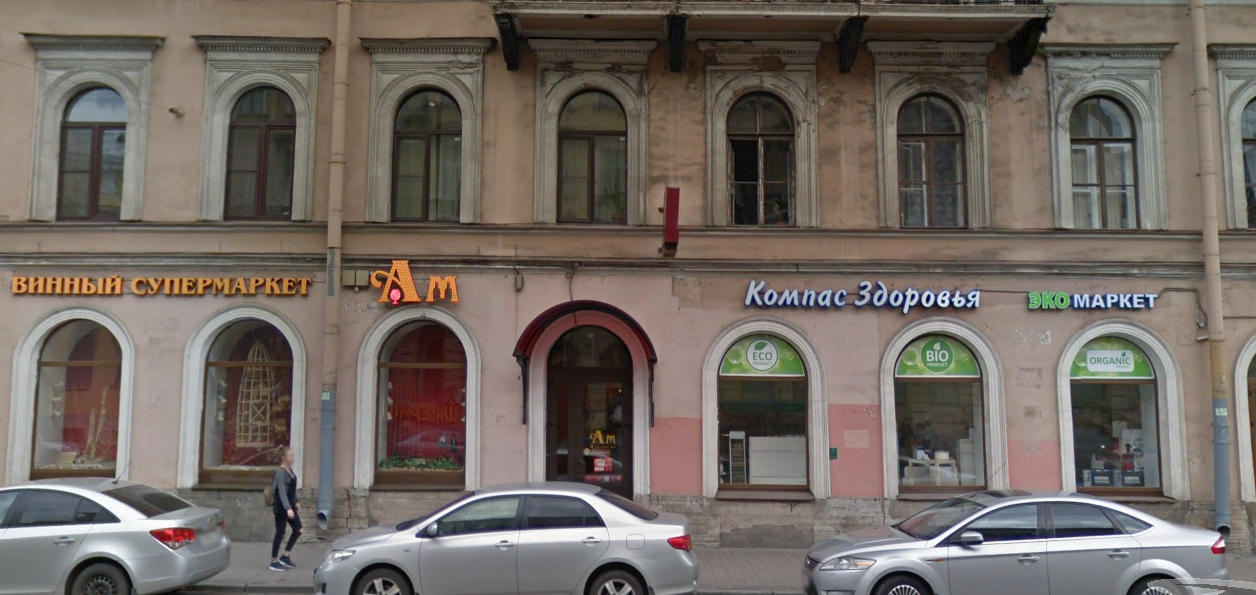cantilever: (651, 179, 691, 266)
door: (544, 373, 636, 515)
signboard: (5, 250, 471, 315), (733, 269, 992, 313), (1013, 271, 1164, 324)
window: (369, 355, 465, 485), (1066, 380, 1167, 498), (200, 360, 294, 480), (715, 377, 807, 497), (896, 378, 990, 493), (31, 355, 121, 475), (56, 111, 126, 226), (894, 133, 970, 230), (556, 128, 627, 228), (222, 114, 290, 216), (1069, 138, 1139, 235), (726, 129, 794, 228), (390, 128, 457, 221)
